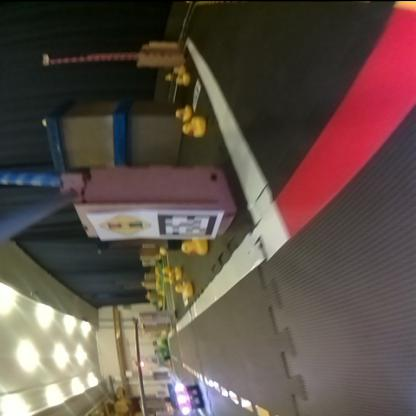Duckie: (180, 237, 206, 256), (182, 117, 203, 136), (174, 283, 192, 297), (166, 268, 180, 280), (176, 108, 190, 118)
Duckiebot: (164, 383, 202, 413)
QR code: (158, 210, 222, 236)
Signal sign: (94, 210, 154, 240)
